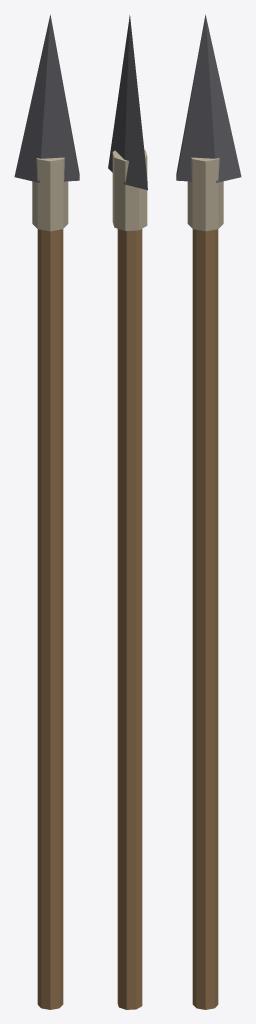
File: spear.glb
3 renders of one model, left to right at view 1: azimuth 90°, elevation 25°; view 2: azimuth 210°, elevation 25°; view 3: azimuth 270°, elevation 25°, orthographic.
Parts seen in each view (by area): view 1: PrehistoricFlintSpear; view 2: PrehistoricFlintSpear; view 3: PrehistoricFlintSpear.
Boxes of the visible parts, box(x1,y1,x2,y2) form: PrehistoricFlintSpear: box(14, 14, 79, 1009); PrehistoricFlintSpear: box(108, 15, 147, 1009); PrehistoricFlintSpear: box(176, 14, 241, 1009).
Bounding box in the file's own units: 0.07 × 2.12 × 0.1266.
